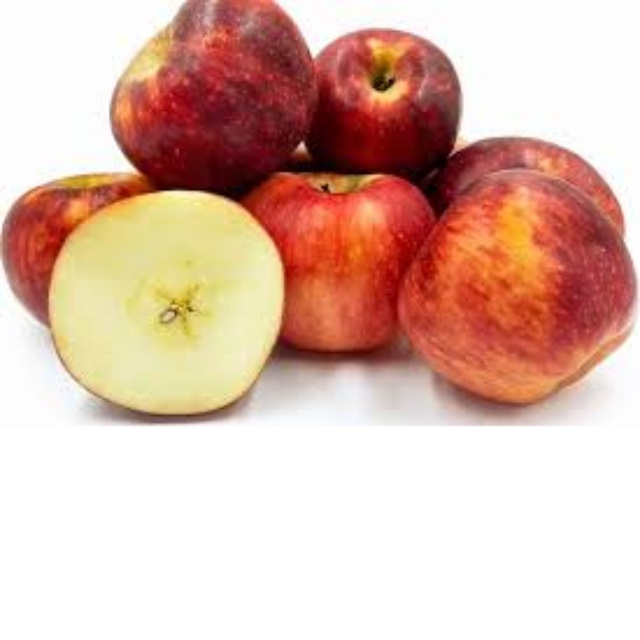tao: (402, 170, 634, 422), (66, 191, 285, 420), (118, 1, 306, 179), (262, 167, 425, 353), (299, 30, 469, 178), (9, 171, 167, 326), (443, 136, 631, 265)
